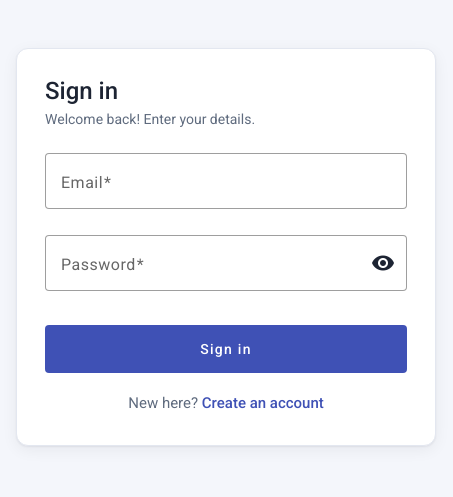
LoginComponent › failing to sign in › shows the server message and stays put
In the field labelled "Email": point(226, 181) [61,169,391,193], type "ada@example.com"
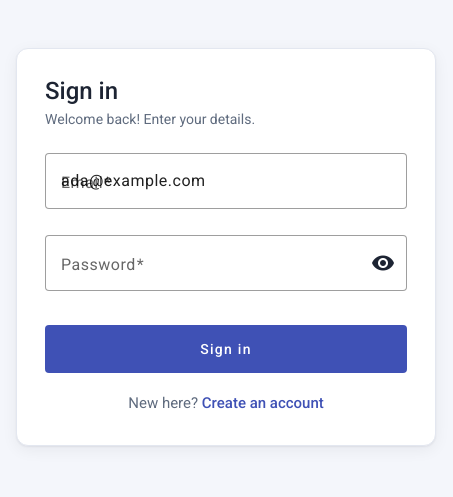
In the password field labelled "Password": point(208, 263) [61,251,355,275], type "wrong-pass"
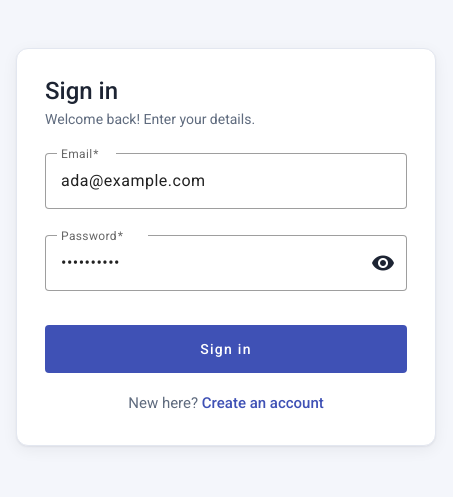
Click the submit button: point(226, 349) [45,325,407,373]
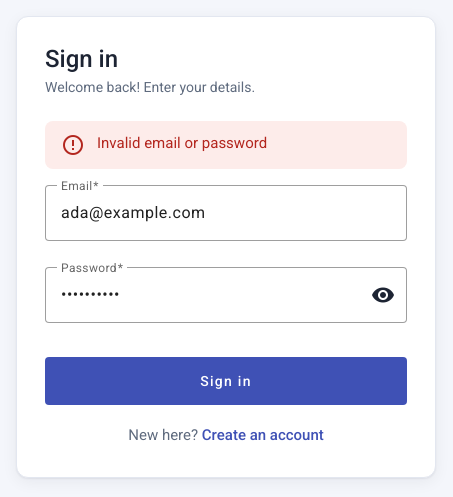
Expected: the text "Invalid email or password" is shown, [97,133,267,154]
